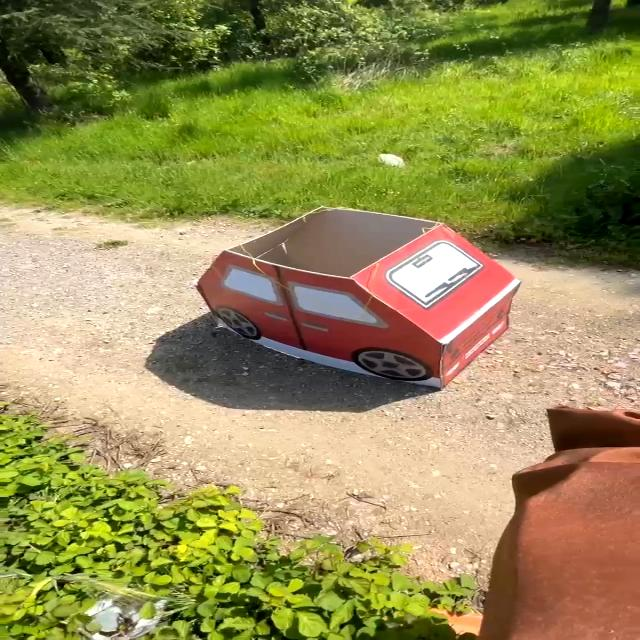red_car: (176, 202, 539, 411)
